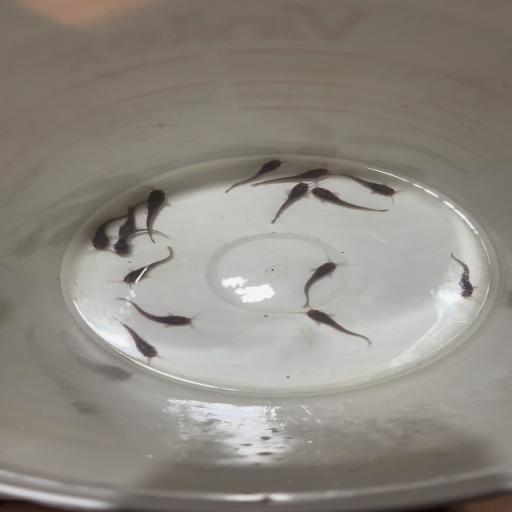lele: (108, 294, 200, 330), (296, 252, 352, 308), (300, 308, 375, 346), (108, 314, 161, 364), (116, 245, 175, 287), (328, 166, 404, 198), (310, 186, 389, 214), (224, 156, 283, 193), (270, 180, 312, 224), (86, 205, 126, 250), (140, 184, 168, 244), (443, 251, 479, 297), (110, 229, 171, 256), (250, 166, 330, 186), (114, 200, 148, 238)
